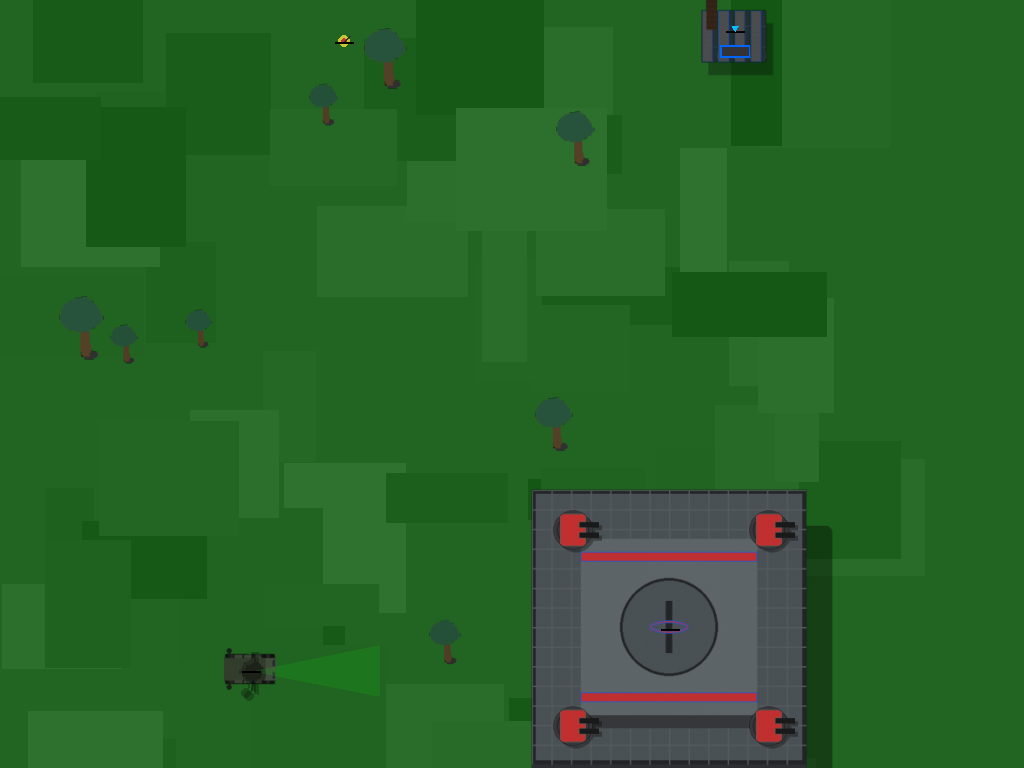Bastion: (508, 465, 804, 768)
CombatEngineer: (330, 27, 357, 54)
FactoryBuilding: (690, 0, 780, 90)
RadarBuilding: (219, 638, 283, 702)
